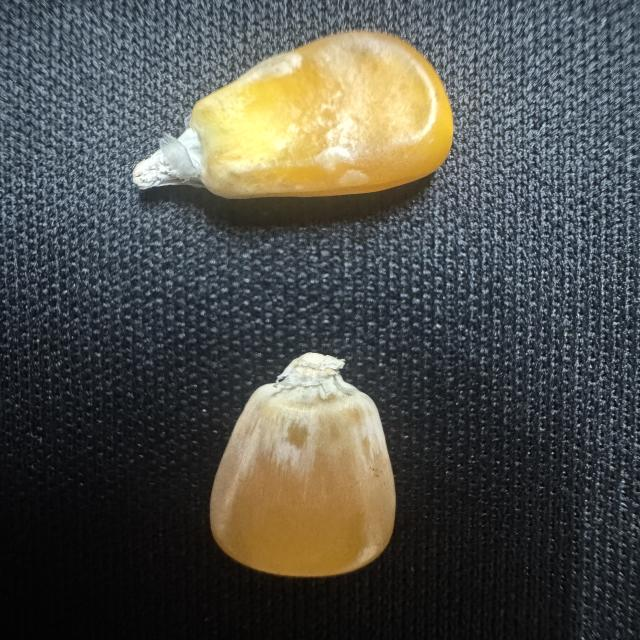Good-Seed: (129, 21, 460, 210), (200, 343, 412, 584)
